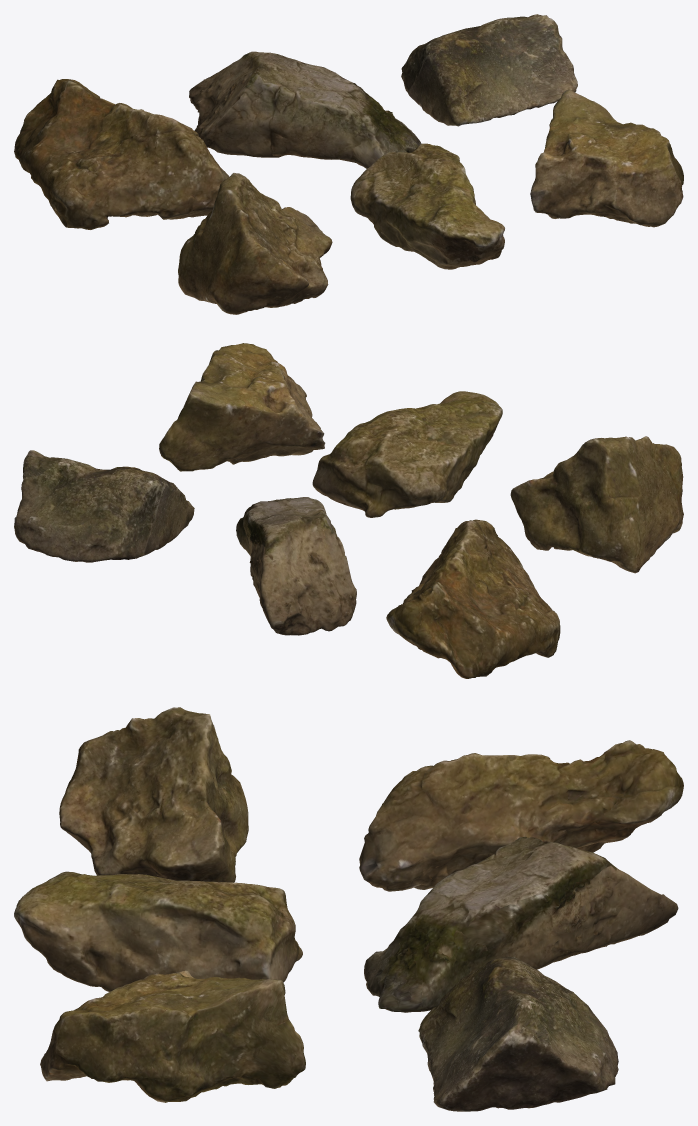
Rendered from rock_moss_set_01.glb.
3 renders of one model, top to bottom at view 1: azimuth 30°, elevation 25°; view 2: azimuth 150°, elevation 25°; view 3: azimuth 270°, elevation 25°, orthographic. The views are drawn at different scales.
Parts seen in each view (by area): view 1: rock_moss_set_01_rock01, rock_moss_set_01_rock02, rock_moss_set_01_rock06, rock_moss_set_01_rock04, rock_moss_set_01_rock03, rock_moss_set_01_rock05; view 2: rock_moss_set_01_rock04, rock_moss_set_01_rock01, rock_moss_set_01_rock05, rock_moss_set_01_rock03, rock_moss_set_01_rock06, rock_moss_set_01_rock02; view 3: rock_moss_set_01_rock01, rock_moss_set_01_rock02, rock_moss_set_01_rock05, rock_moss_set_01_rock04, rock_moss_set_01_rock06, rock_moss_set_01_rock03.
Part boxes in pixels (box(x1,y1,x2,y2)): rock_moss_set_01_rock01: box(14, 79, 229, 229); rock_moss_set_01_rock02: box(189, 51, 421, 168); rock_moss_set_01_rock06: box(530, 89, 683, 227); rock_moss_set_01_rock04: box(178, 173, 332, 314); rock_moss_set_01_rock03: box(401, 14, 577, 126); rock_moss_set_01_rock05: box(350, 143, 504, 269); rock_moss_set_01_rock04: box(510, 436, 683, 573); rock_moss_set_01_rock01: box(386, 519, 560, 678); rock_moss_set_01_rock05: box(312, 391, 502, 517); rock_moss_set_01_rock03: box(14, 450, 194, 562); rock_moss_set_01_rock06: box(159, 343, 325, 471); rock_moss_set_01_rock02: box(236, 497, 356, 635); rock_moss_set_01_rock01: box(359, 740, 683, 891); rock_moss_set_01_rock02: box(364, 836, 678, 1012); rock_moss_set_01_rock05: box(14, 871, 302, 991); rock_moss_set_01_rock04: box(59, 707, 248, 882); rock_moss_set_01_rock06: box(40, 970, 305, 1102); rock_moss_set_01_rock03: box(418, 956, 618, 1111).
Bounding box in the file's own units: 4 × 0.8837 × 3.47.
Materials: 1 (1 with a texture image).
